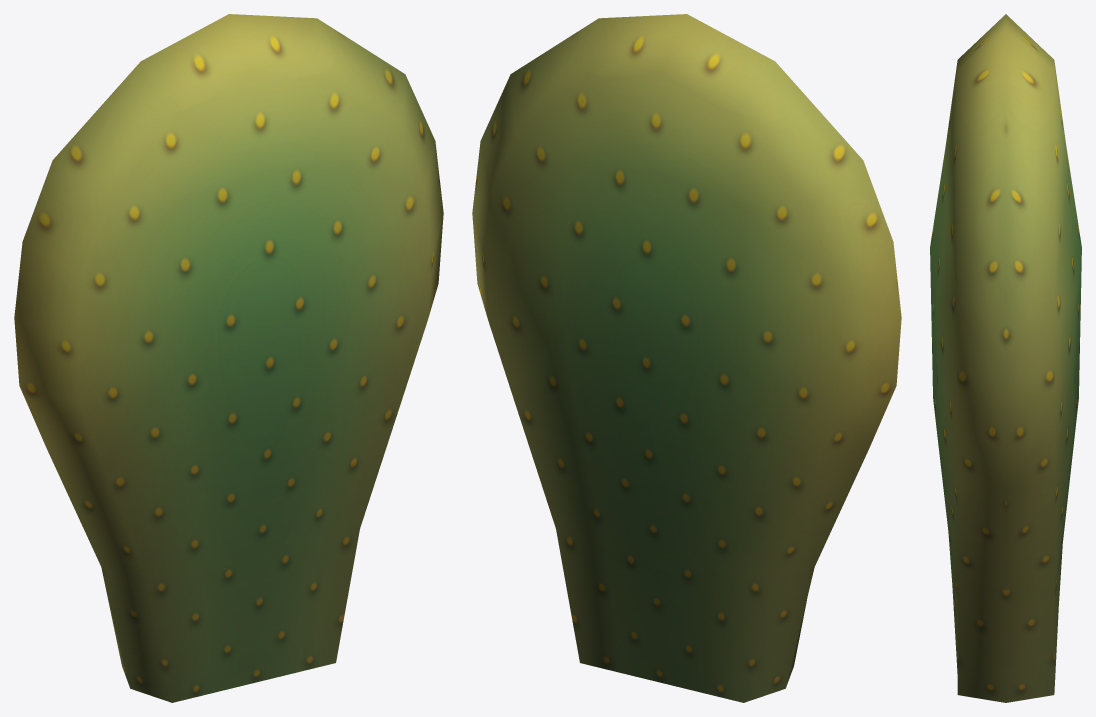
File: Ctn_flatCactus_01_v01.FBX
3 views of the same model, side by side, from view 1: azimuth 30°, elevation 25°; view 2: azimuth 150°, elevation 25°; view 3: azimuth 270°, elevation 25° (orthographic). The views are drawn at different scales.
Visible parts, largest first — view 1: Ctn_flatCactus_01_v01; view 2: Ctn_flatCactus_01_v01; view 3: Ctn_flatCactus_01_v01.
Boxes of the visible parts, bbox=[...] form: Ctn_flatCactus_01_v01: bbox=[14, 14, 443, 702]; Ctn_flatCactus_01_v01: bbox=[472, 14, 901, 702]; Ctn_flatCactus_01_v01: bbox=[930, 14, 1081, 702].
Bounding box in the file's own units: 39.64 × 57.39 × 12.63.
